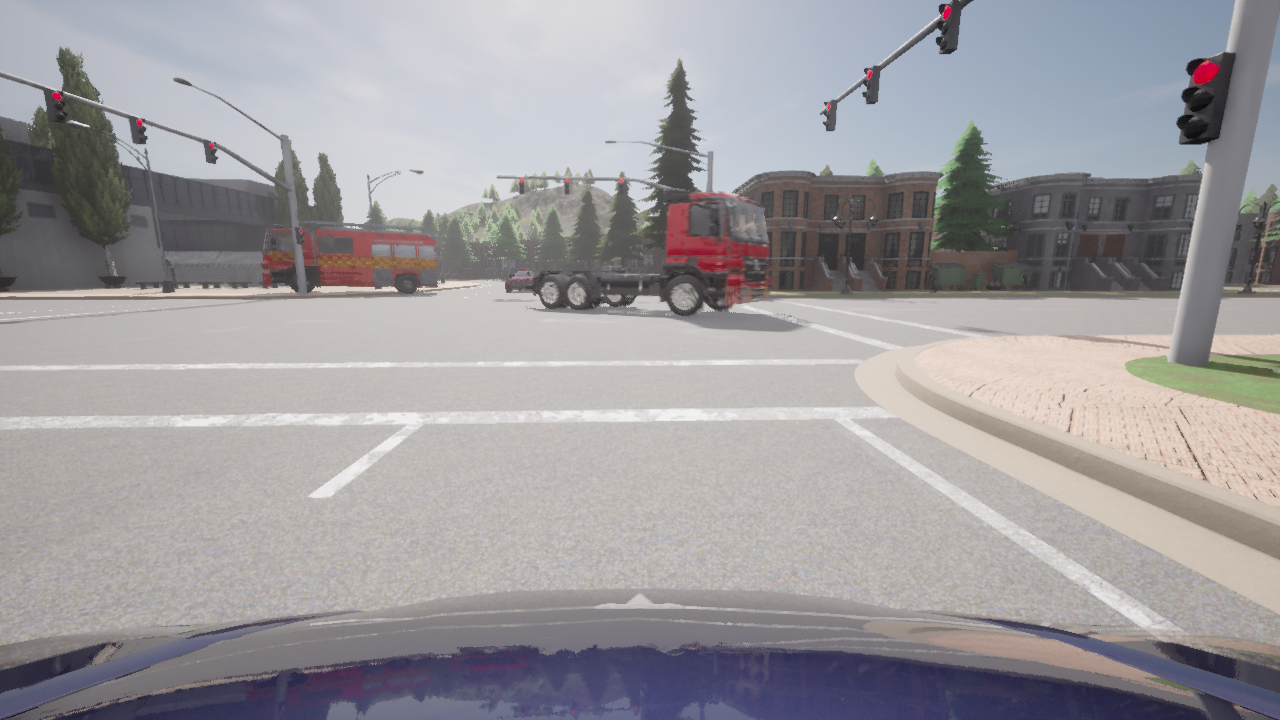cyclist: (0, 588, 1279, 719), (524, 190, 772, 316), (260, 220, 437, 294), (506, 270, 538, 291), (602, 265, 623, 273)
pedestrian: (1016, 260, 1035, 291), (881, 259, 894, 292), (928, 259, 939, 292)
